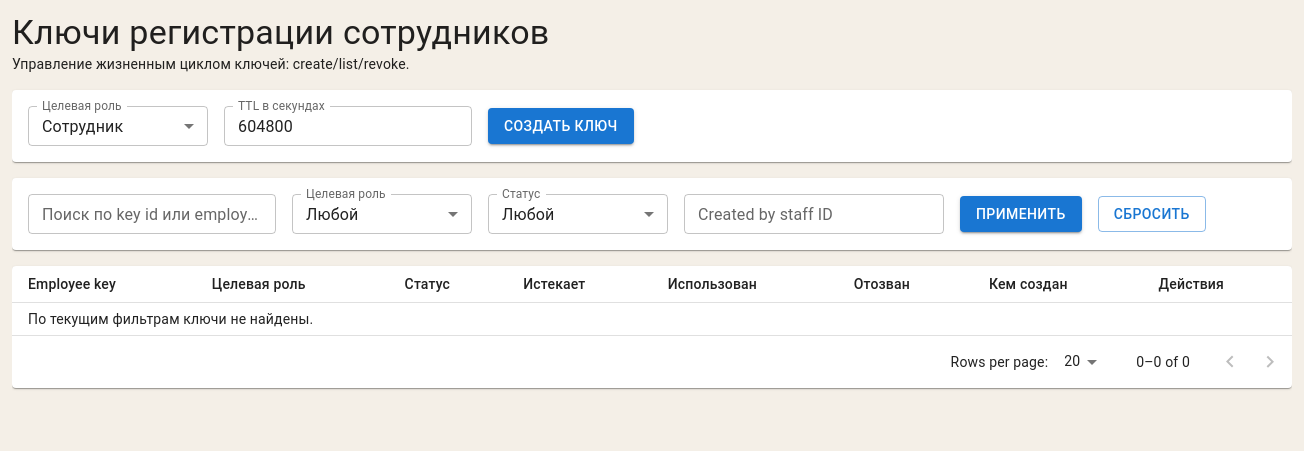
Test: AdminEmployeeKeysManagementPage › applies search and created-by filters and sends query params
Check: the text "По текущим фильтрам ключи не найдены." is shown, box [12,302,1292,336]
Step 1. Type "ad2f171f" into the field labelled "Поиск по key id или employee key" → (152, 214), box [28,194,276,234]
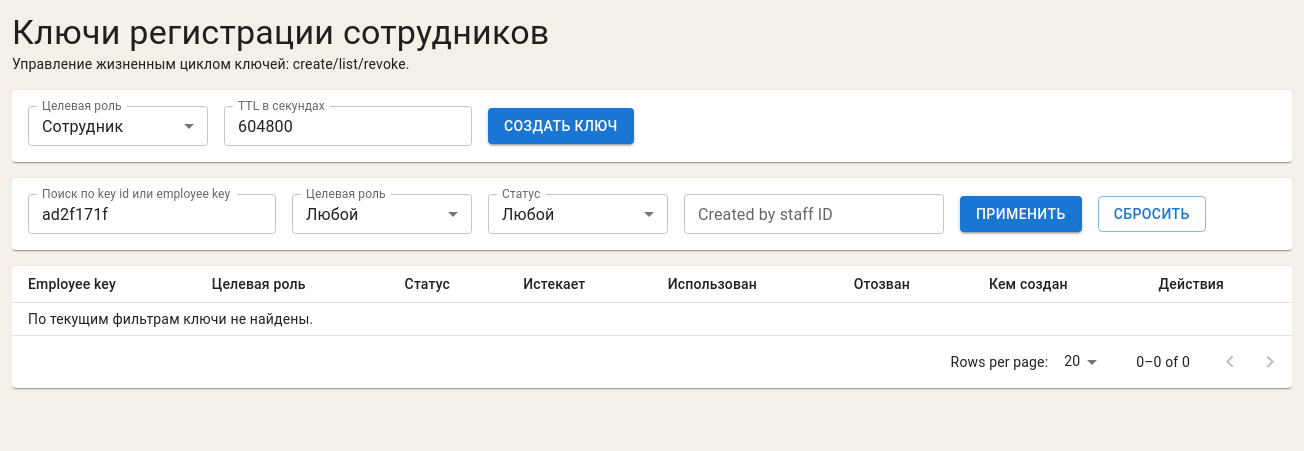
Step 2. Type "5f4cb725-9eb1-49b4-9ca1-f8b87f3063f8" into the field labelled "Created by staff ID" → (814, 214), box [684,194,944,234]
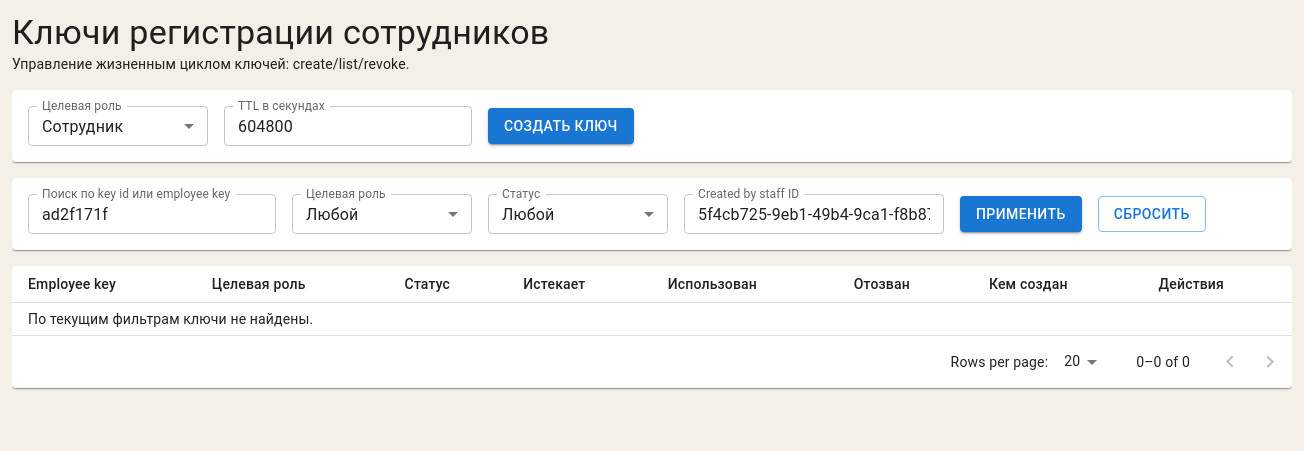
Step 3. Click the button "Применить" → (1021, 214), box [960,196,1082,232]
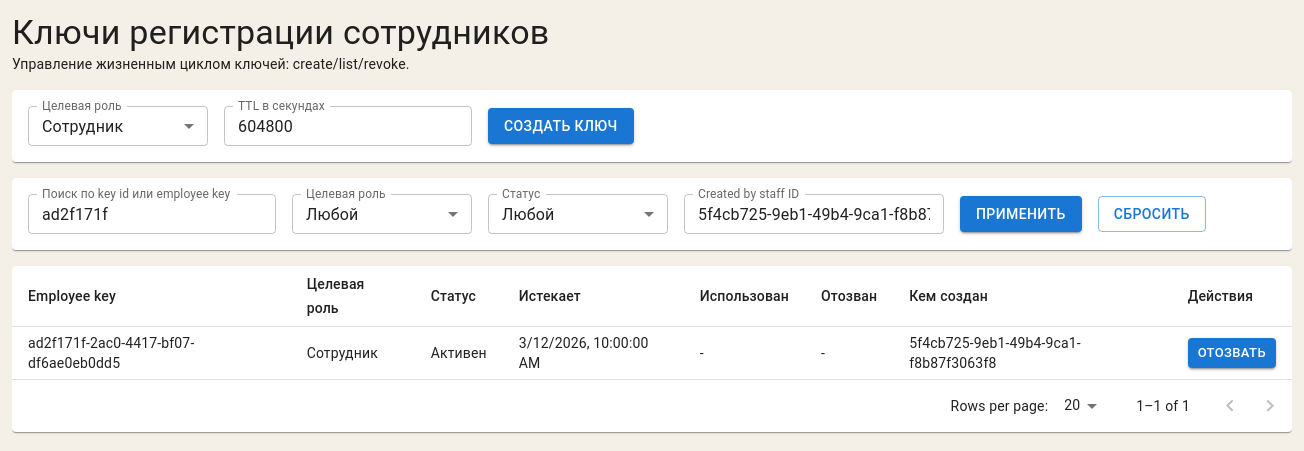
Check: the text "ad2f171f-2ac0-4417-bf07-df6ae0eb0dd5" is shown, box [12,326,291,380]
